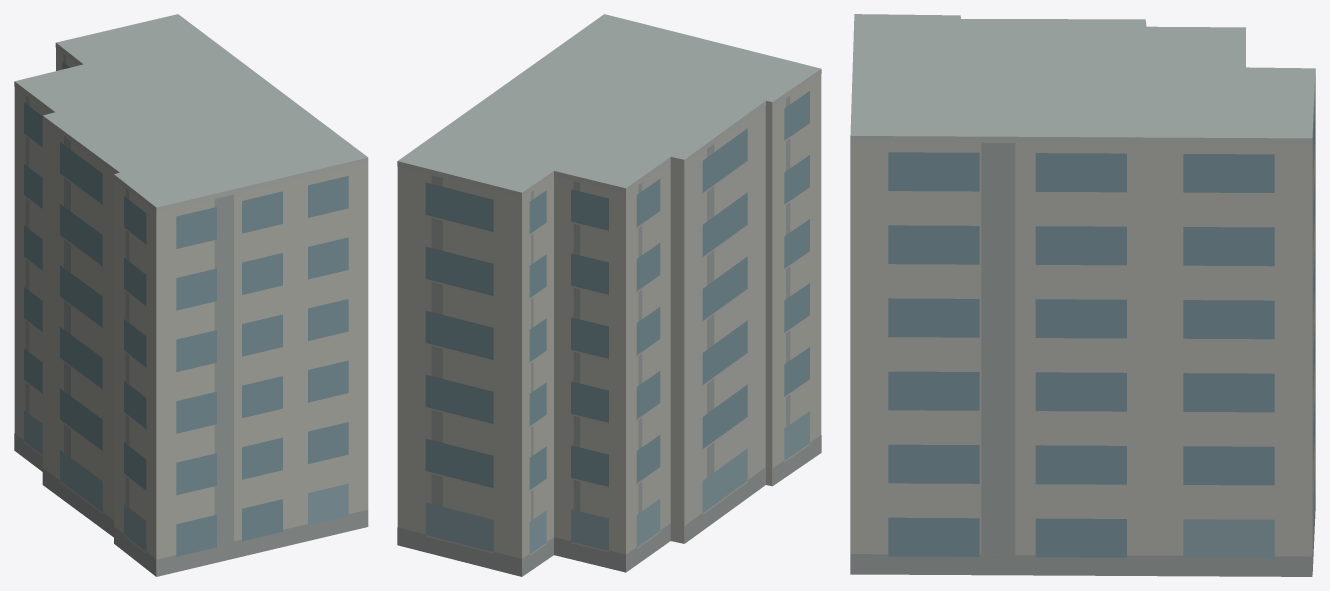
File: survey-upis-32554012.glb
The picture shows the model from 3 angles, left to right: view 1: azimuth 30°, elevation 25°; view 2: azimuth 150°, elevation 25°; view 3: azimuth 270°, elevation 25°; orthographic projection. The views are drawn at different scales.
Parts seen in each view (by area): view 1: survey-upis-32554012.tmp; view 2: survey-upis-32554012.tmp; view 3: survey-upis-32554012.tmp.
Boxes of the visible parts, x1=… form: survey-upis-32554012.tmp: x1=14, y1=14, x2=368, y2=576; survey-upis-32554012.tmp: x1=397, y1=14, x2=821, y2=576; survey-upis-32554012.tmp: x1=850, y1=14, x2=1315, y2=576.
Size of the model in its own units: 10.47 by 17.2 by 16.54.
